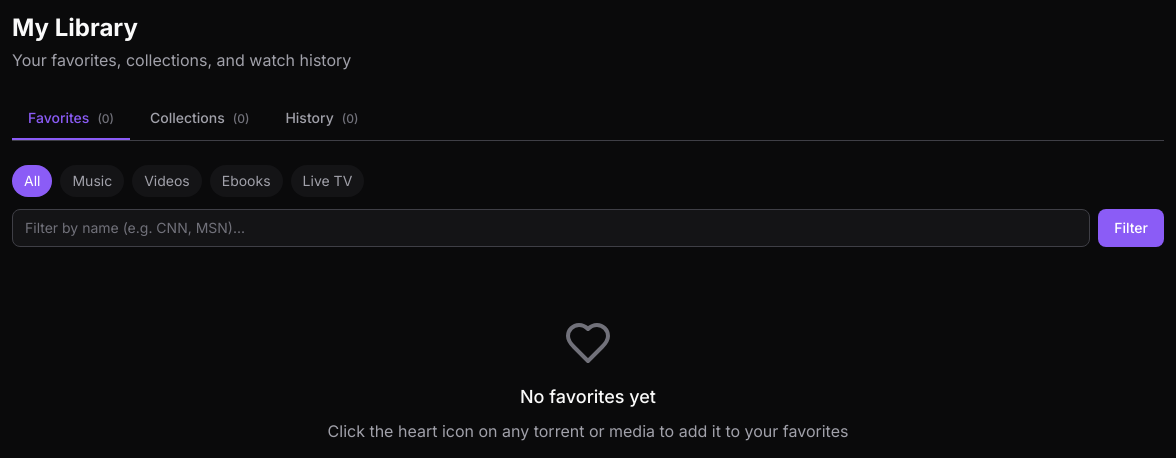
Test case: LibraryContent › Collections Tab › creates new collection
The width and height of the screenshot is (1176, 458).
Click the button "Collections(0)": (200, 118) left=134, top=96, right=265, bottom=140
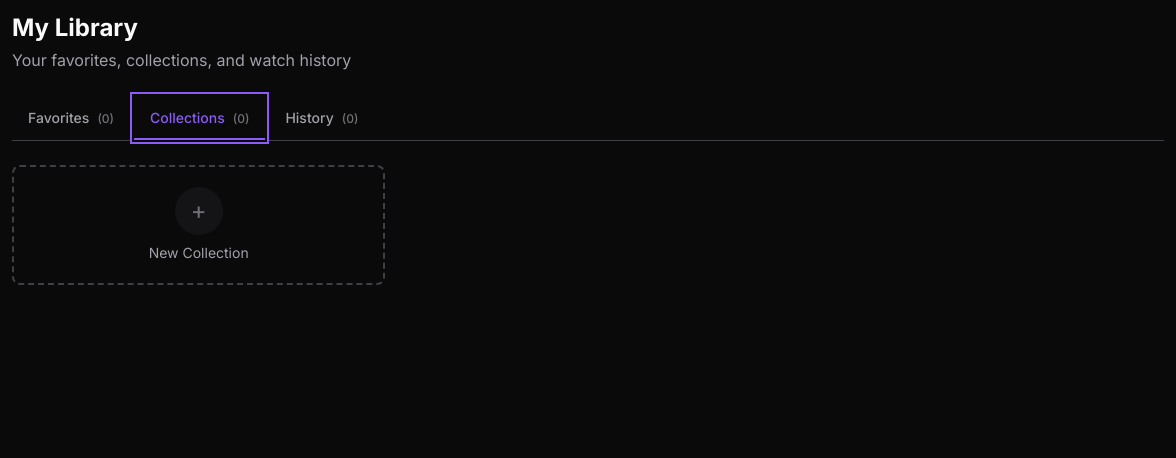
Click the text "New Collection": (199, 253) left=149, top=243, right=249, bottom=263
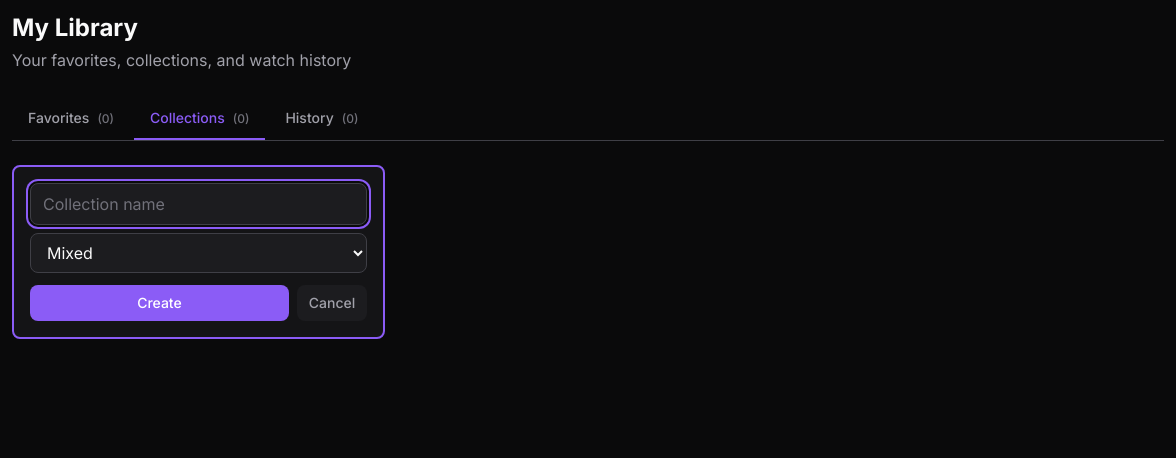
// Fill in the form
In the field with placeholder "Collection name": (199, 204) left=30, top=183, right=367, bottom=225, type "New Playlist"
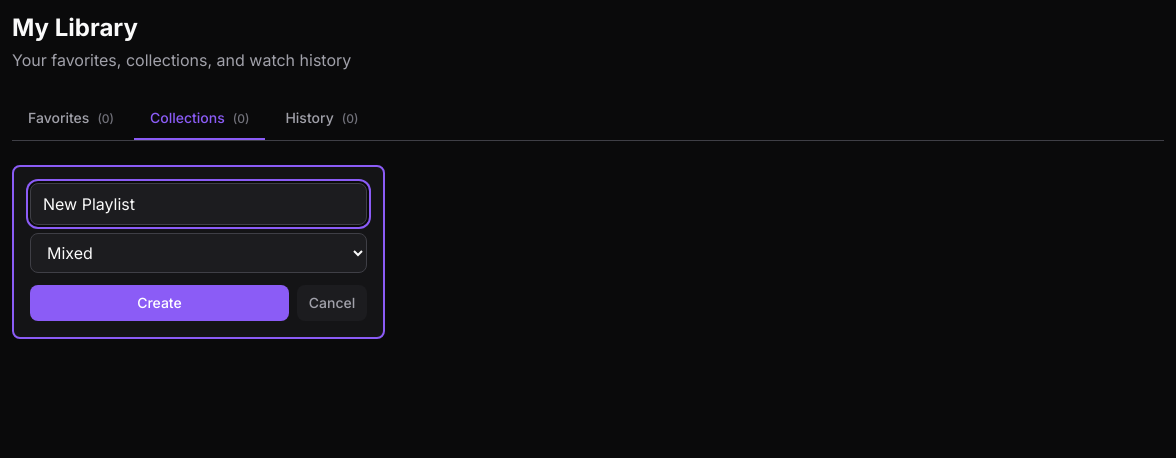
// Select type
Select "Playlist (Music)" in the dropdown: (199, 253) left=30, top=233, right=367, bottom=273
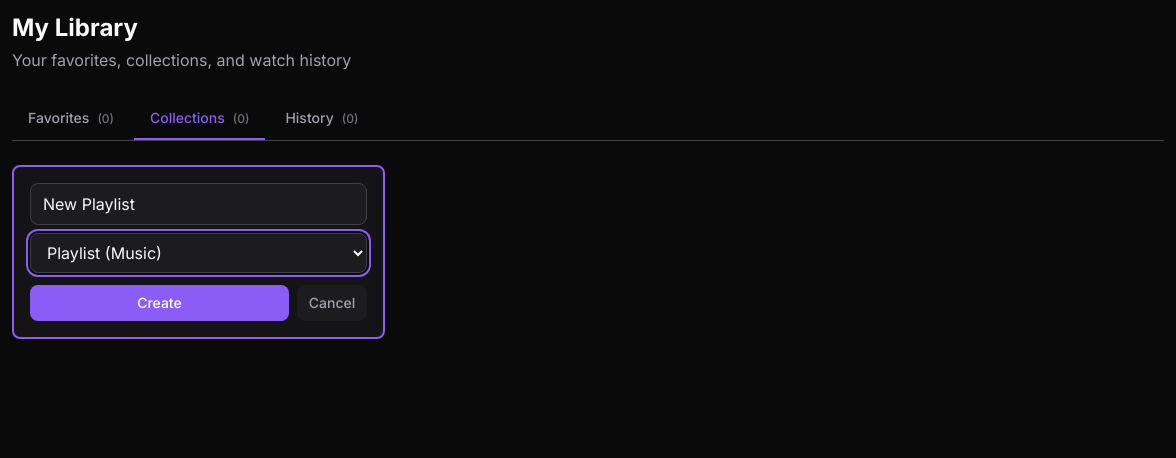
Click the button "Create": (159, 303) left=30, top=285, right=289, bottom=321
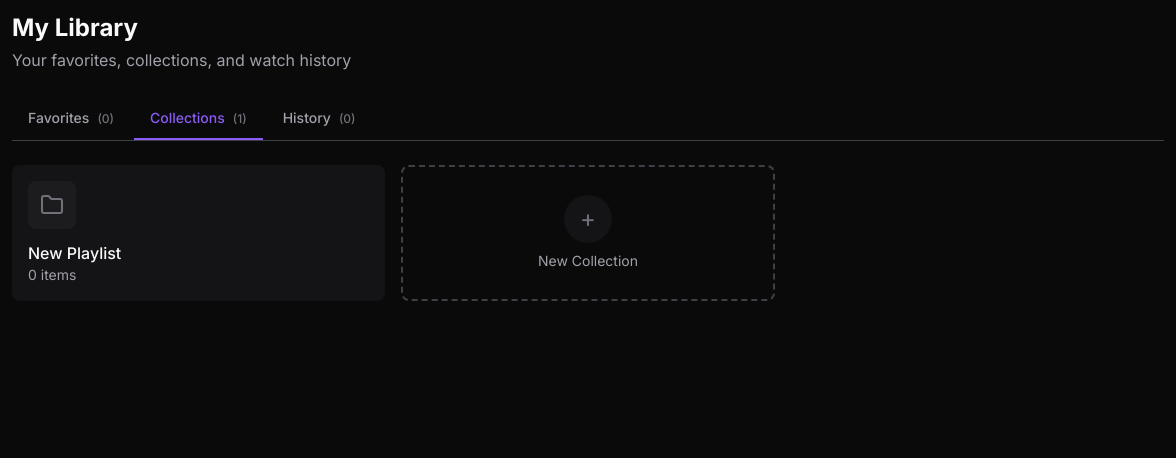
expect the heading "New Playlist" is shown: met, box left=28, top=243, right=121, bottom=263
